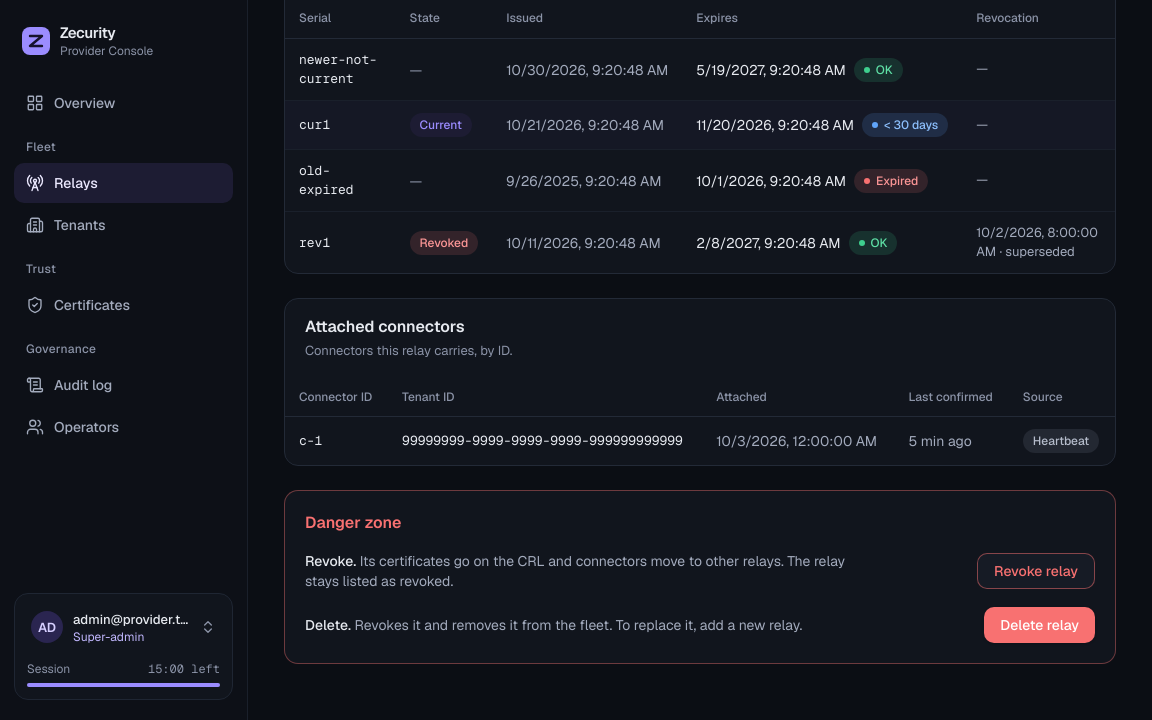
Test: Relay detail: revoke and delete requests › delete: one DELETE with the reason and name in the body, then a refresh shows it deleted
(page scrolled)
Click the button "Delete relay": (1040, 625) [984,607,1095,643]
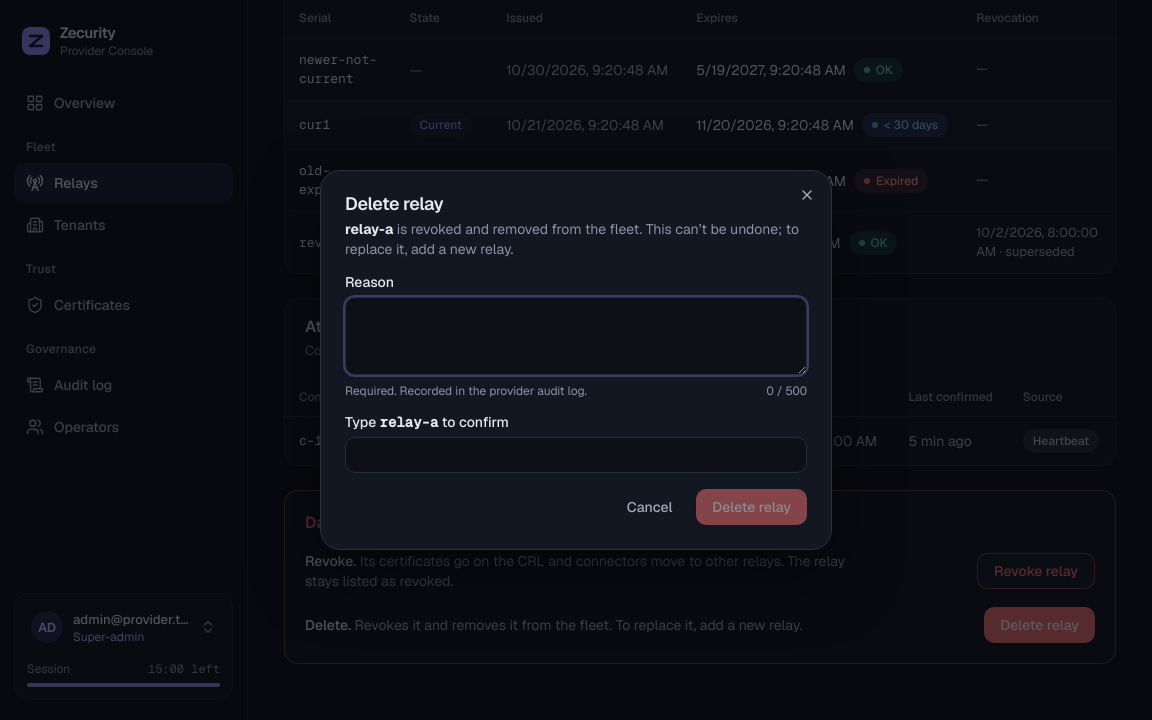
In the text box labelled "Reason": (576, 336) [345,297,807,375], type "host compromised"
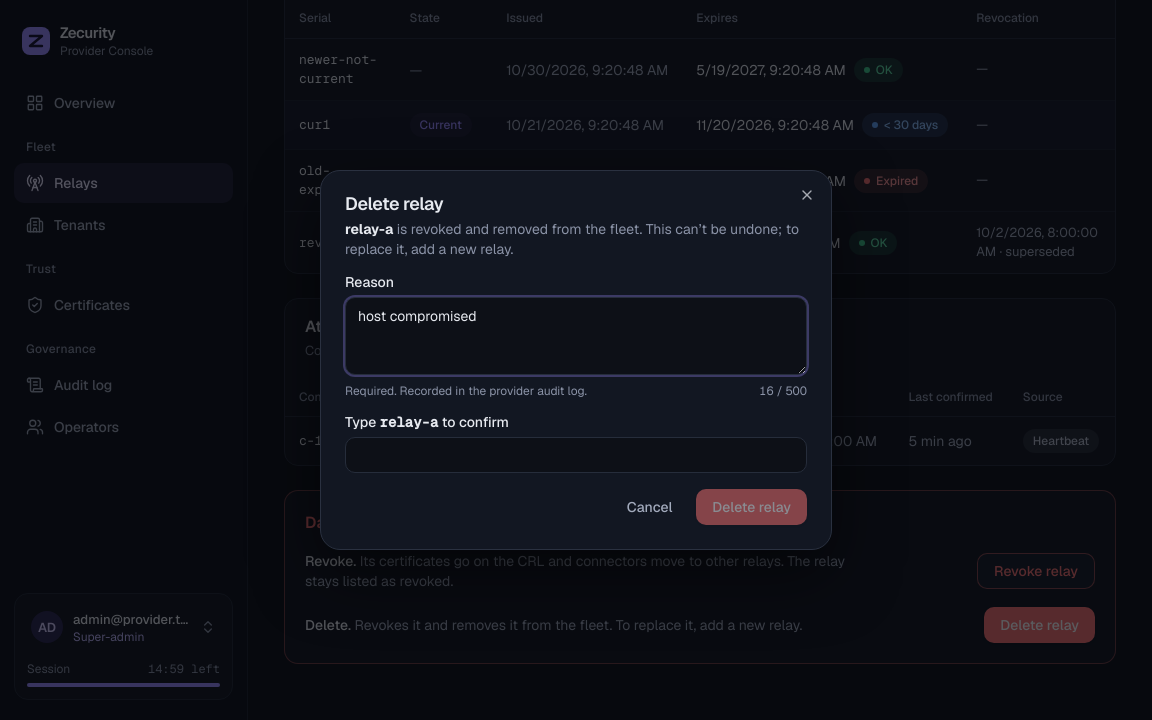
In the field labelled "Type relay-a to confirm": (576, 455) [345,437,807,473], type "relay-a"
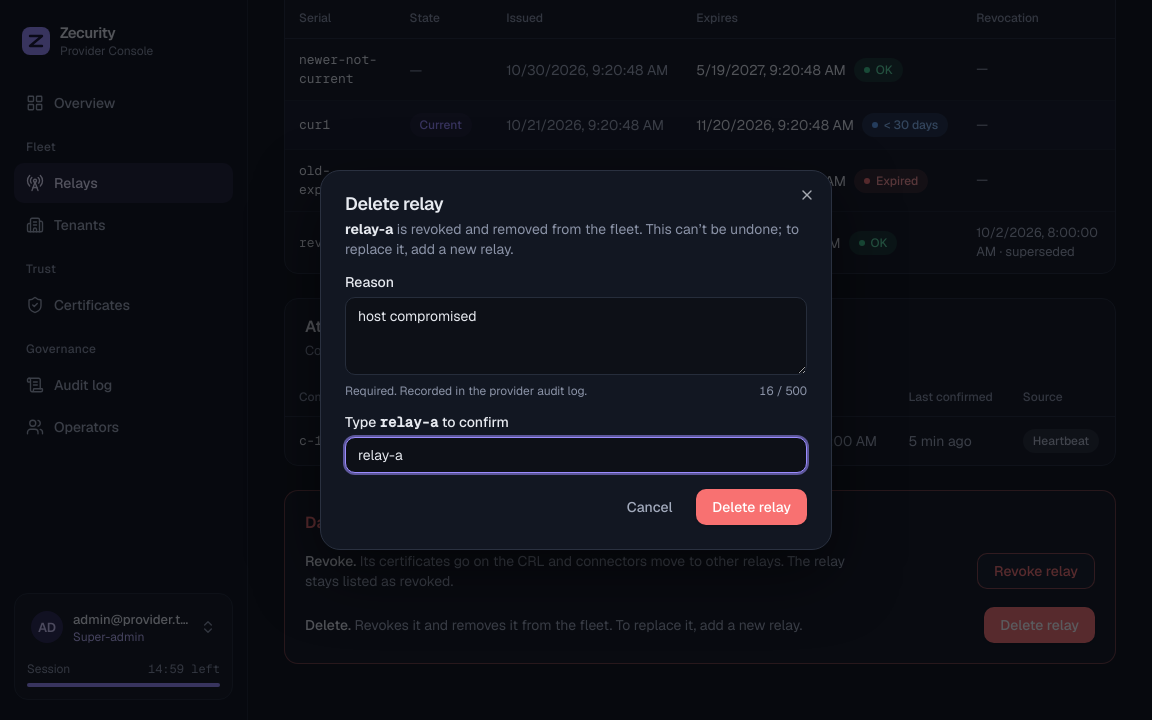
Click the button "Delete relay": (752, 507) [696,489,807,525]
(page scrolled)
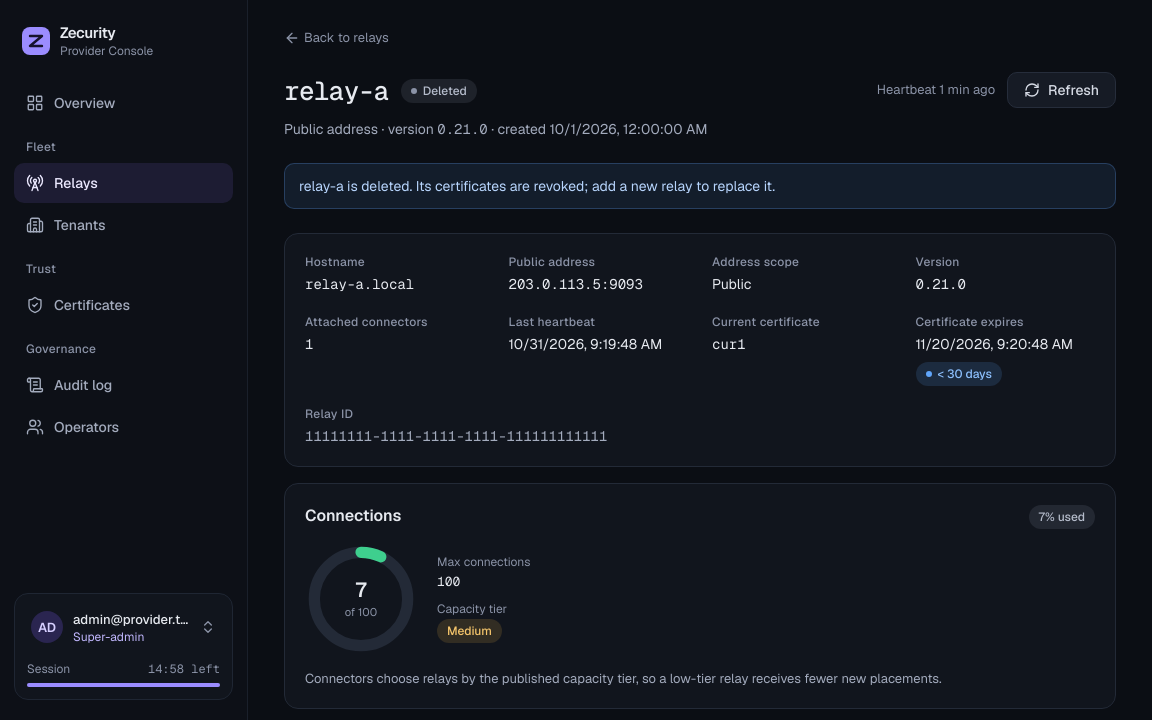
Result: the text "relay-a is deleted" is shown at [299,176,775,194]
Result: the heading "Danger zone" is gone
